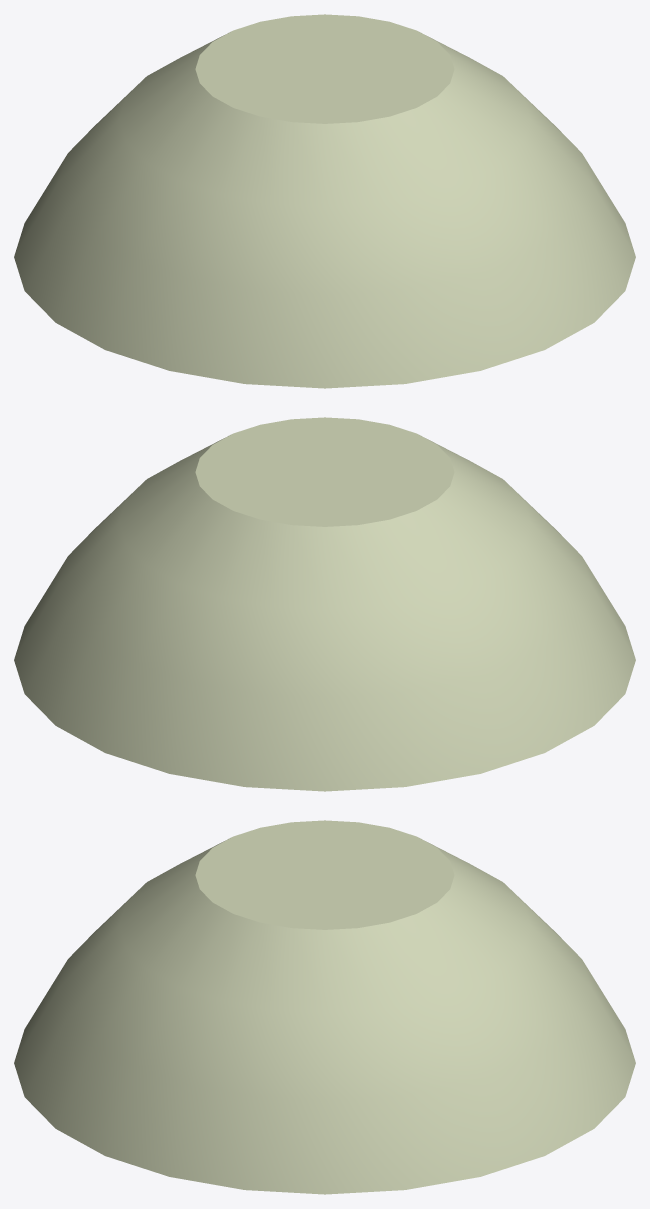
Rendered from ruby_adapter_s1p2_0_1.obj.
3 renders of one model, top to bottom at view 1: azimuth 30°, elevation 25°; view 2: azimuth 150°, elevation 25°; view 3: azimuth 270°, elevation 25°, orthographic.
Visible parts, largest first — view 1: ruby_adapter_s1p2_0_1; view 2: ruby_adapter_s1p2_0_1; view 3: ruby_adapter_s1p2_0_1.
Part boxes in pixels (x1,y1,x2,y2): ruby_adapter_s1p2_0_1: (14, 14, 635, 388); ruby_adapter_s1p2_0_1: (14, 417, 635, 791); ruby_adapter_s1p2_0_1: (14, 820, 635, 1194).
Size of the model in its own units: 1.5 by 0.5 by 1.5.
